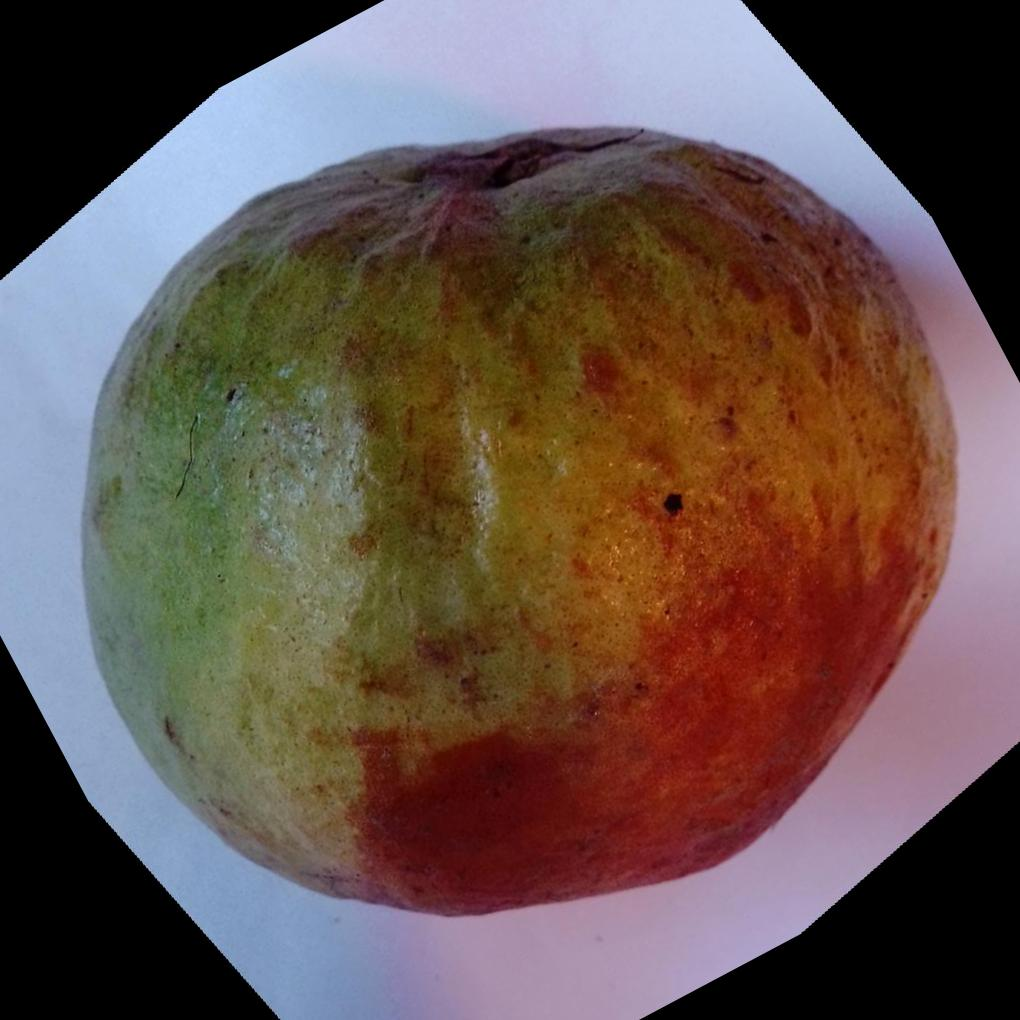FreshOrange: (74, 123, 957, 920)
